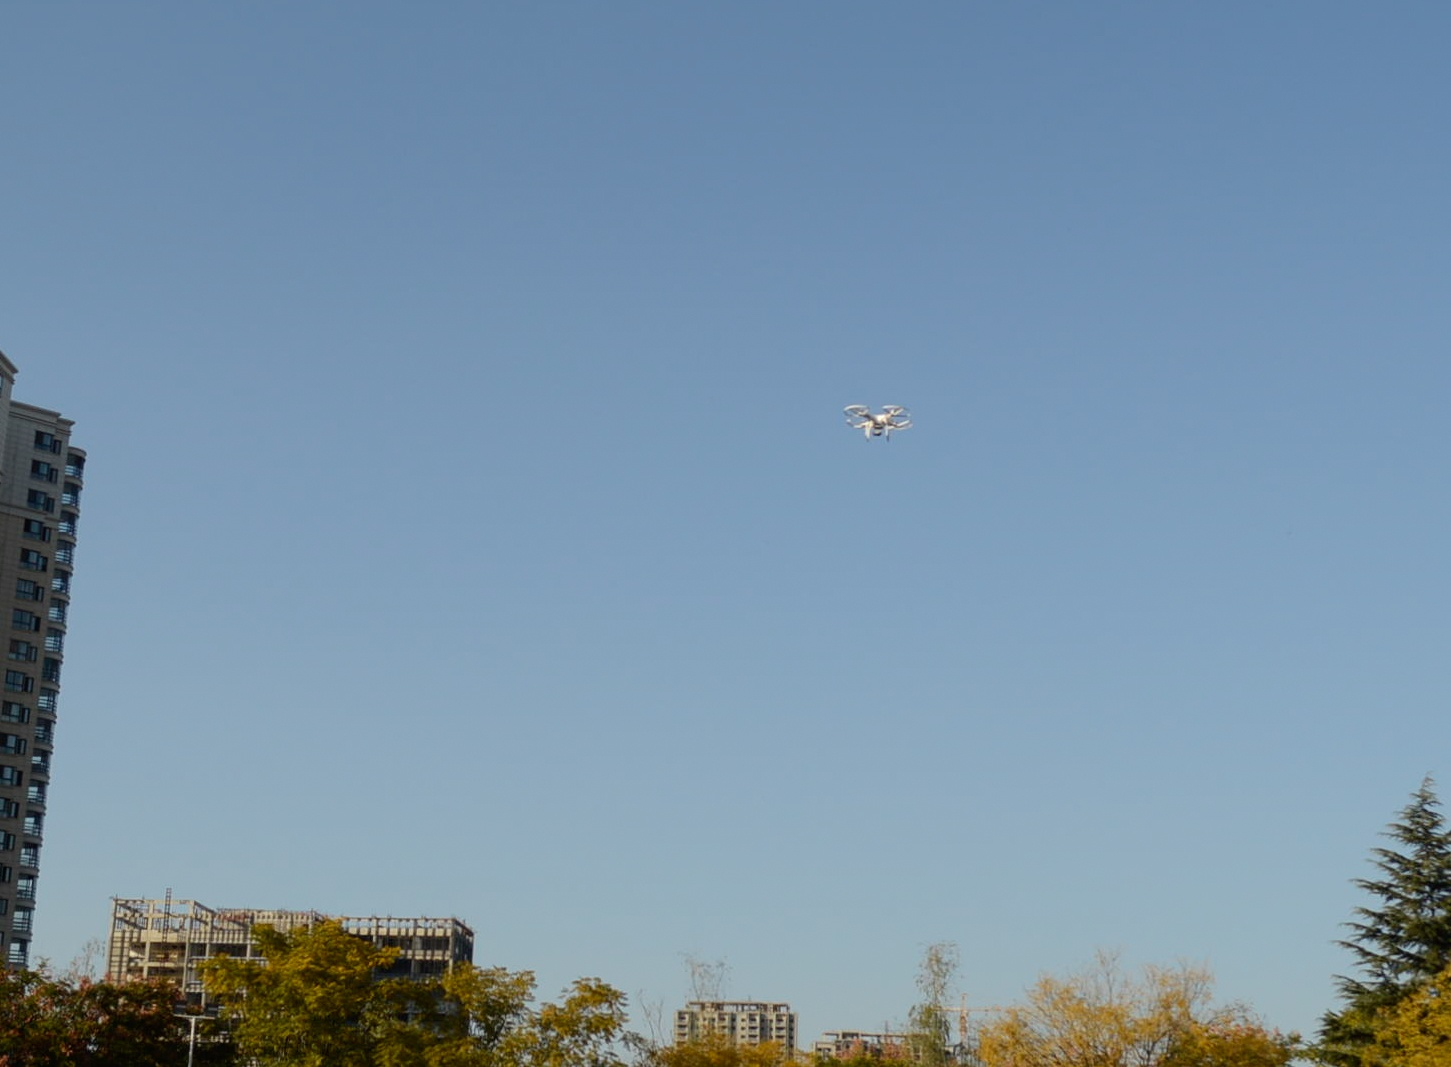DJI: (842, 400, 915, 443)
